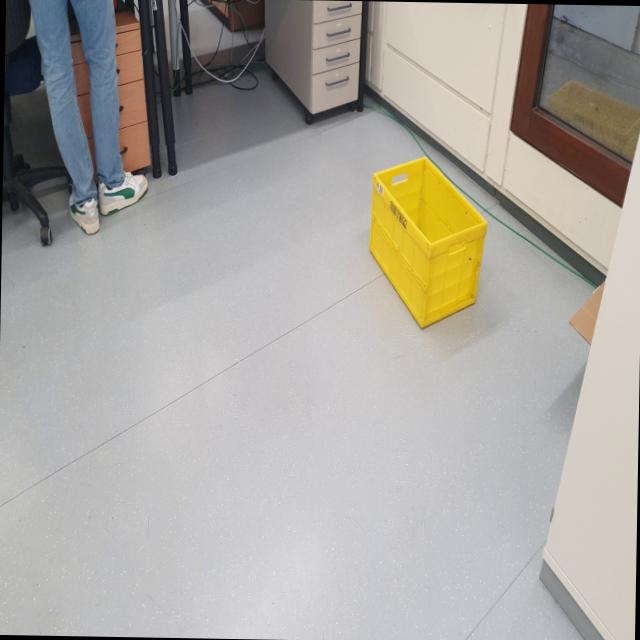box: (362, 149, 496, 338)
